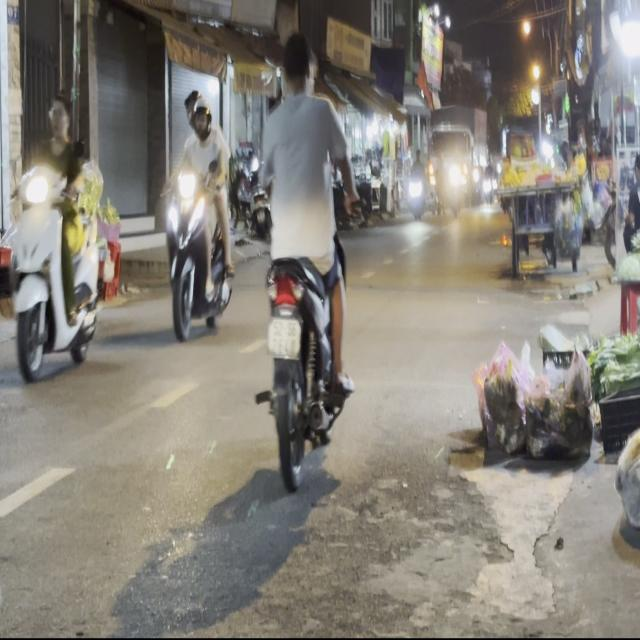helmet: (190, 95, 213, 141)
licenseplate: (254, 27, 356, 484), (5, 87, 105, 384), (160, 87, 236, 341)
motorcyclist: (278, 30, 312, 94), (44, 91, 73, 139)
nohelmet: (266, 316, 300, 357)
